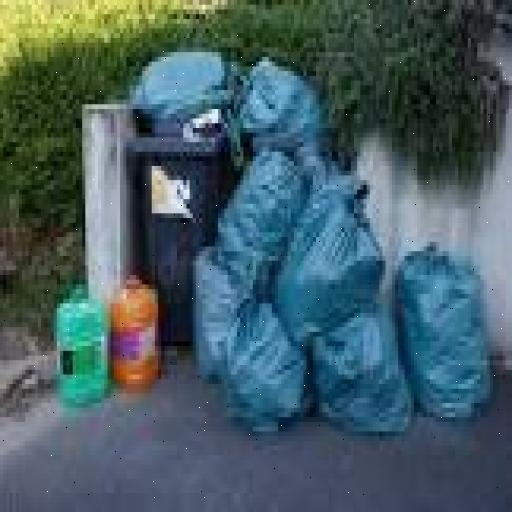poubelle_pleine: (100, 44, 256, 400)
